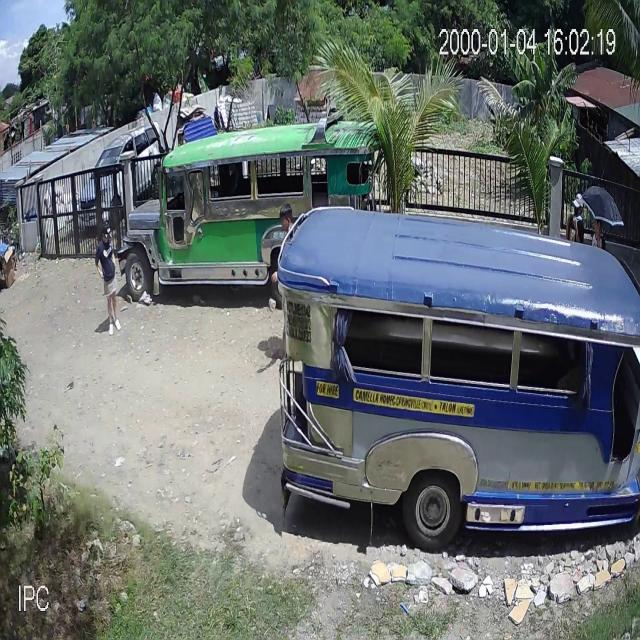standing: (96, 221, 123, 339), (566, 192, 587, 246), (590, 218, 608, 261)
walking: (275, 198, 299, 250)
